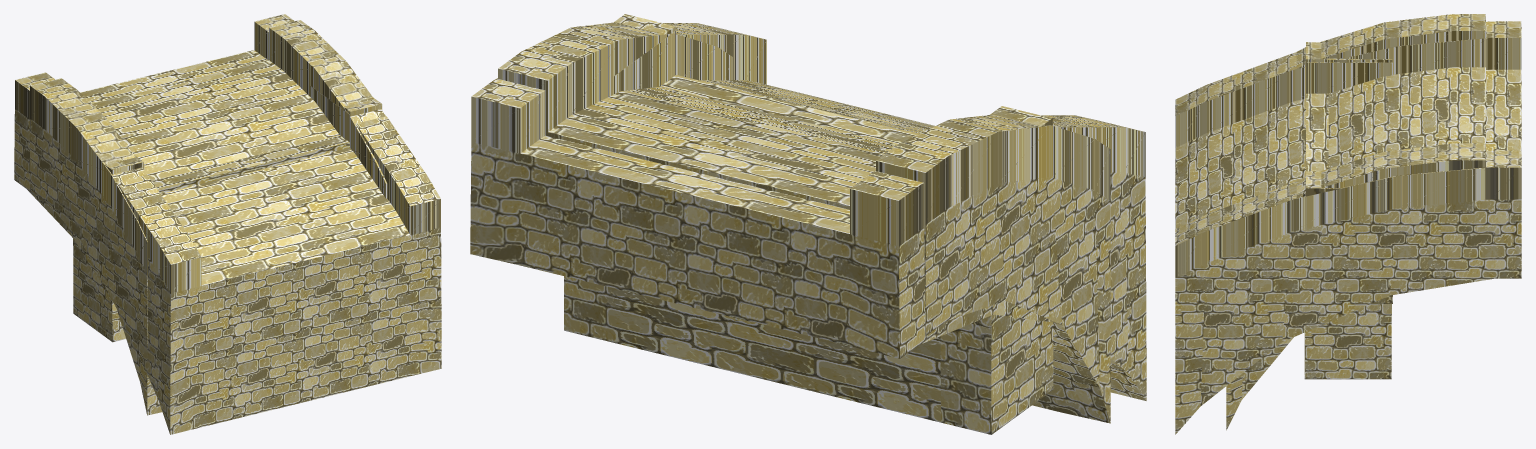
The model's file is Puente Piedra_Collider.fbx.
3 renders of one model, left to right at view 1: azimuth 30°, elevation 25°; view 2: azimuth 150°, elevation 25°; view 3: azimuth 270°, elevation 25°, orthographic. The views are drawn at different scales.
Parts seen in each view (by area): view 1: Collider_Puente_P_Arco01, Collider_Puente_P_Arco02, Collider_Puente_P_Base, Collider_Puente_P_Paso; view 2: Collider_Puente_P_Arco01, Collider_Puente_P_Arco02, Collider_Puente_P_Base, Collider_Puente_P_Paso; view 3: Collider_Puente_P_Arco01, Collider_Puente_P_Arco02, Collider_Puente_P_Base, Collider_Puente_P_Paso.
Boxes of the visible parts, x1=… form: Collider_Puente_P_Arco01: x1=14, y1=14, x2=441, y2=434; Collider_Puente_P_Arco02: x1=30, y1=20, x2=387, y2=415; Collider_Puente_P_Base: x1=73, y1=98, x2=382, y2=342; Collider_Puente_P_Paso: x1=73, y1=86, x2=349, y2=245; Collider_Puente_P_Arco01: x1=470, y1=23, x2=1146, y2=400; Collider_Puente_P_Arco02: x1=498, y1=22, x2=1110, y2=423; Collider_Puente_P_Base: x1=564, y1=14, x2=1053, y2=434; Collider_Puente_P_Paso: x1=614, y1=31, x2=991, y2=328; Collider_Puente_P_Arco01: x1=1175, y1=21, x2=1521, y2=434; Collider_Puente_P_Arco02: x1=1226, y1=14, x2=1485, y2=430; Collider_Puente_P_Base: x1=1304, y1=42, x2=1392, y2=379; Collider_Puente_P_Paso: x1=1306, y1=62, x2=1392, y2=303.
Size of the model in its own units: 402 by 349 by 400.
